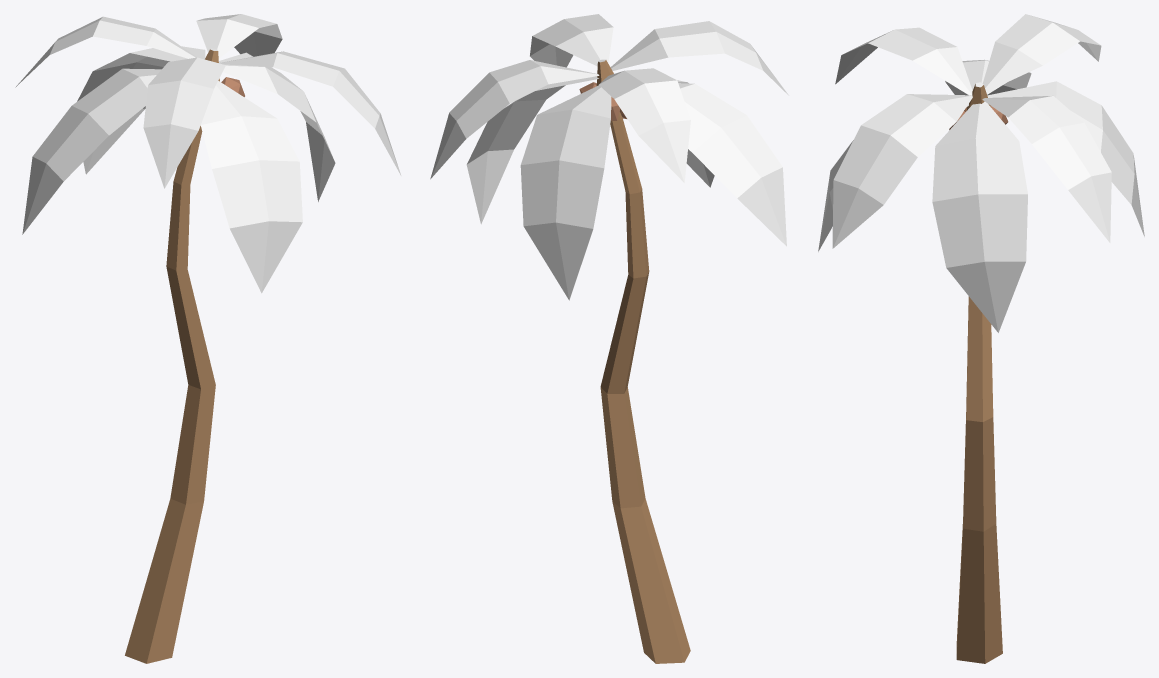
Rendered from Palm_Tree_Coconut_OneSided_m_Snow_04.fbx.
The picture shows the model from 3 angles, left to right: view 1: azimuth 30°, elevation 25°; view 2: azimuth 150°, elevation 25°; view 3: azimuth 270°, elevation 25°; orthographic projection. The views are drawn at different scales.
Visible parts, largest first — view 1: Palm_Tree_Coconut_OneSided_m_Snow_04; view 2: Palm_Tree_Coconut_OneSided_m_Snow_04; view 3: Palm_Tree_Coconut_OneSided_m_Snow_04.
Boxes of the visible parts, left/top/right/bottom form: Palm_Tree_Coconut_OneSided_m_Snow_04: left=15, top=14, right=401, bottom=663; Palm_Tree_Coconut_OneSided_m_Snow_04: left=430, top=14, right=788, bottom=663; Palm_Tree_Coconut_OneSided_m_Snow_04: left=818, top=14, right=1144, bottom=663.
Bounding box in the file's own units: 319 × 600 × 284.
